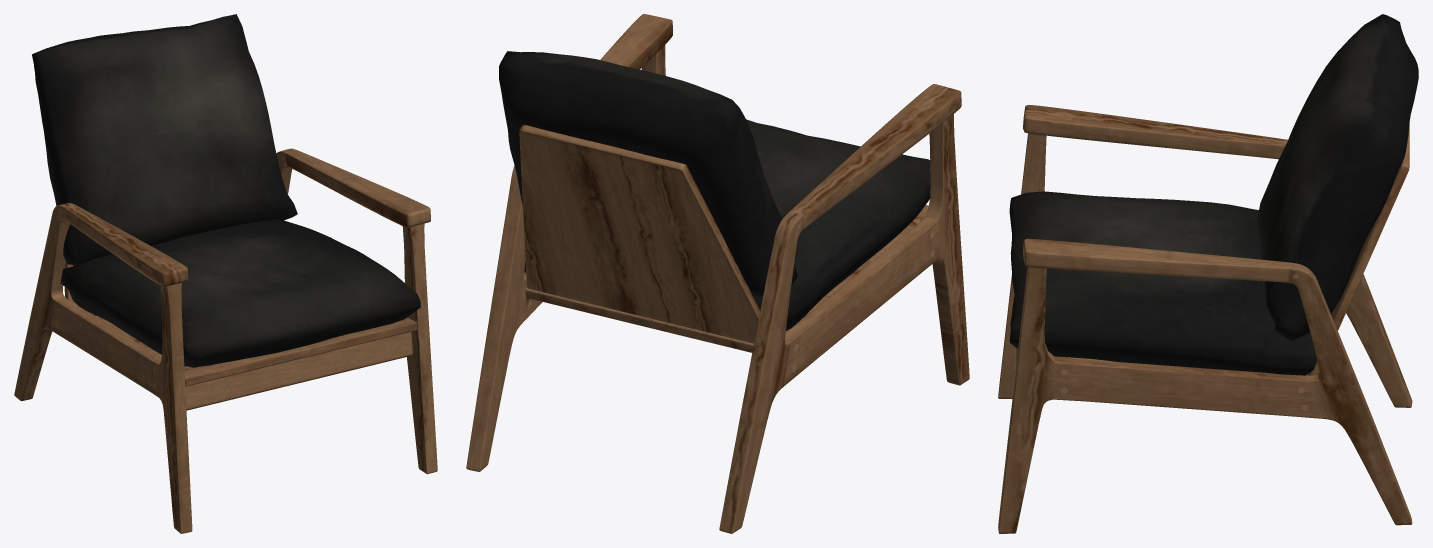
Rendered from modern_arm_chair_01.gltf.
3 views of the same model, side by side, from view 1: azimuth 30°, elevation 25°; view 2: azimuth 150°, elevation 25°; view 3: azimuth 270°, elevation 25° (orthographic). The views are drawn at different scales.
Visible parts, largest first — view 1: modern_arm_chair_01; view 2: modern_arm_chair_01; view 3: modern_arm_chair_01.
Part boxes in pixels (bbox=[...]): modern_arm_chair_01: bbox=[14, 14, 437, 533]; modern_arm_chair_01: bbox=[466, 14, 969, 533]; modern_arm_chair_01: bbox=[998, 14, 1418, 533].
Size of the model in its own units: 0.8203 by 1.02 by 0.9866.
2 materials, 2 textured.
